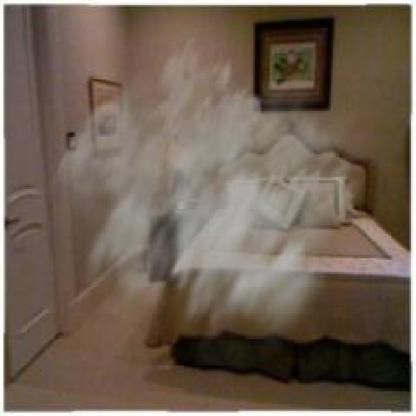Smoke: (37, 36, 377, 394)
